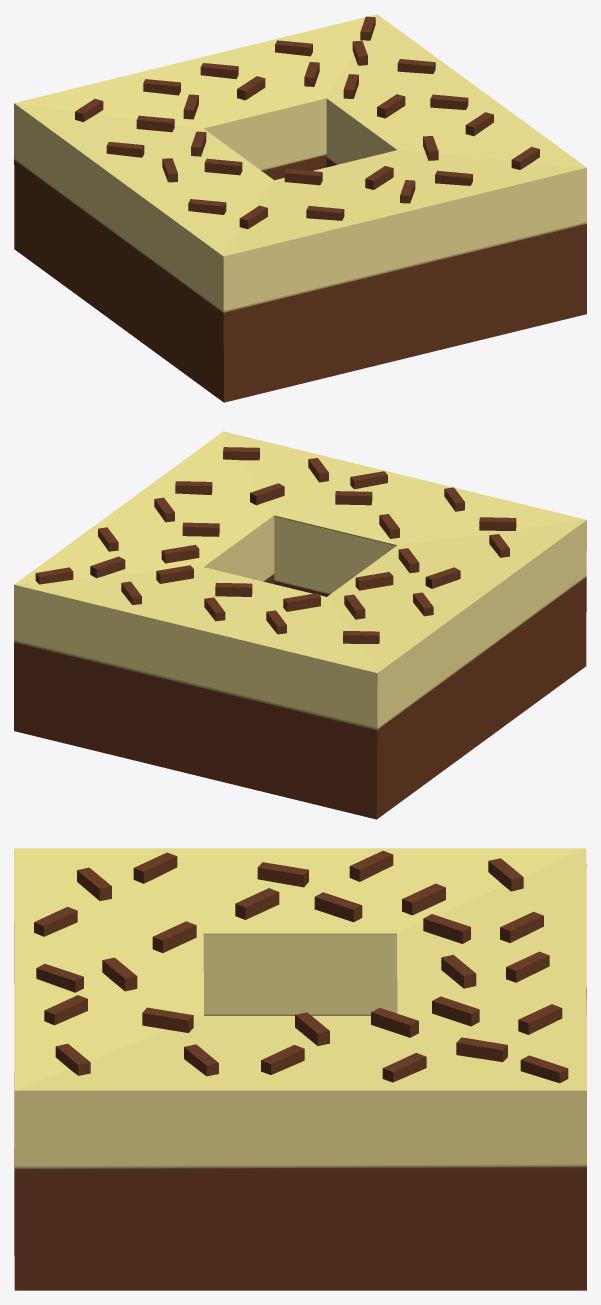
File: ChocolateCreamDonut.fbx
3 views of the same model, one above another, from view 1: azimuth 30°, elevation 25°; view 2: azimuth 150°, elevation 25°; view 3: azimuth 270°, elevation 25° (orthographic). The views are drawn at different scales.
Visible parts, largest first — view 1: Cube.010; view 2: Cube.010; view 3: Cube.010.
Boxes of the visible parts, box(x1,y1,x2,y2) form: Cube.010: box(14, 14, 586, 402); Cube.010: box(14, 431, 586, 819); Cube.010: box(14, 848, 586, 1290).
Bounding box in the file's own units: 386 × 156 × 385.
Materials: 1 (1 with a texture image).
